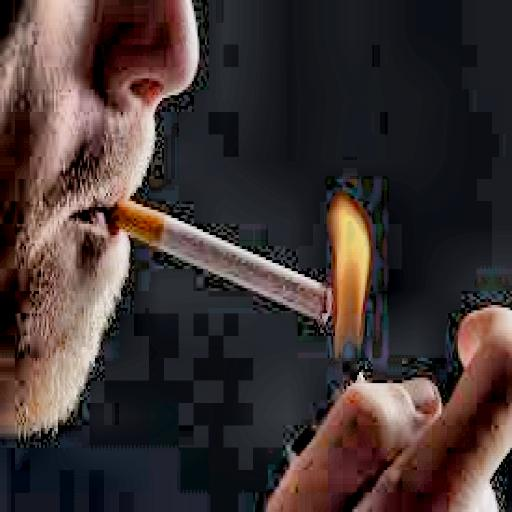fire: (307, 185, 374, 369)
